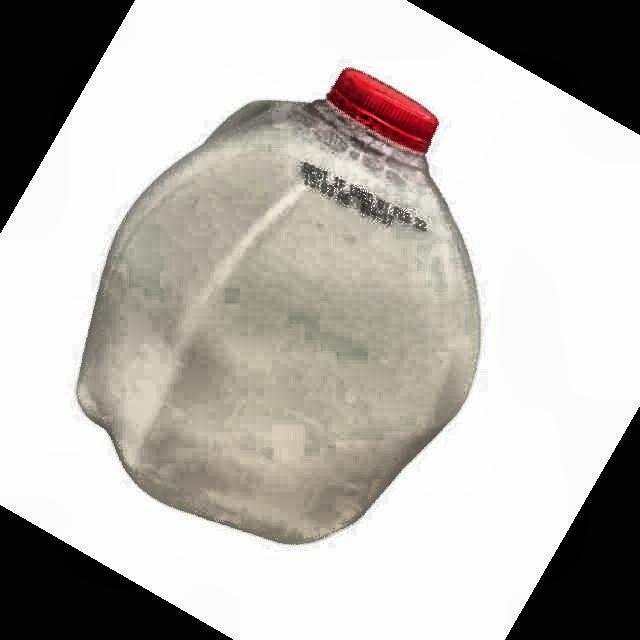plastic: (78, 69, 479, 543)
